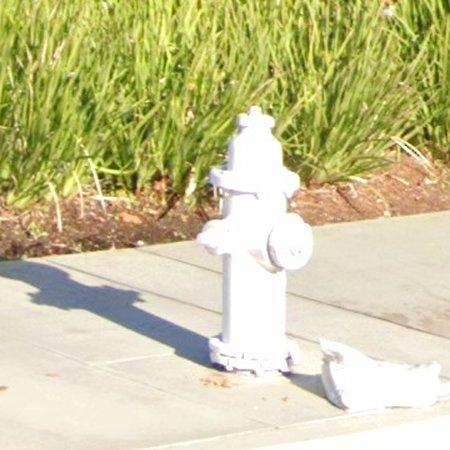a fire hydrant: (197, 107, 314, 374)
